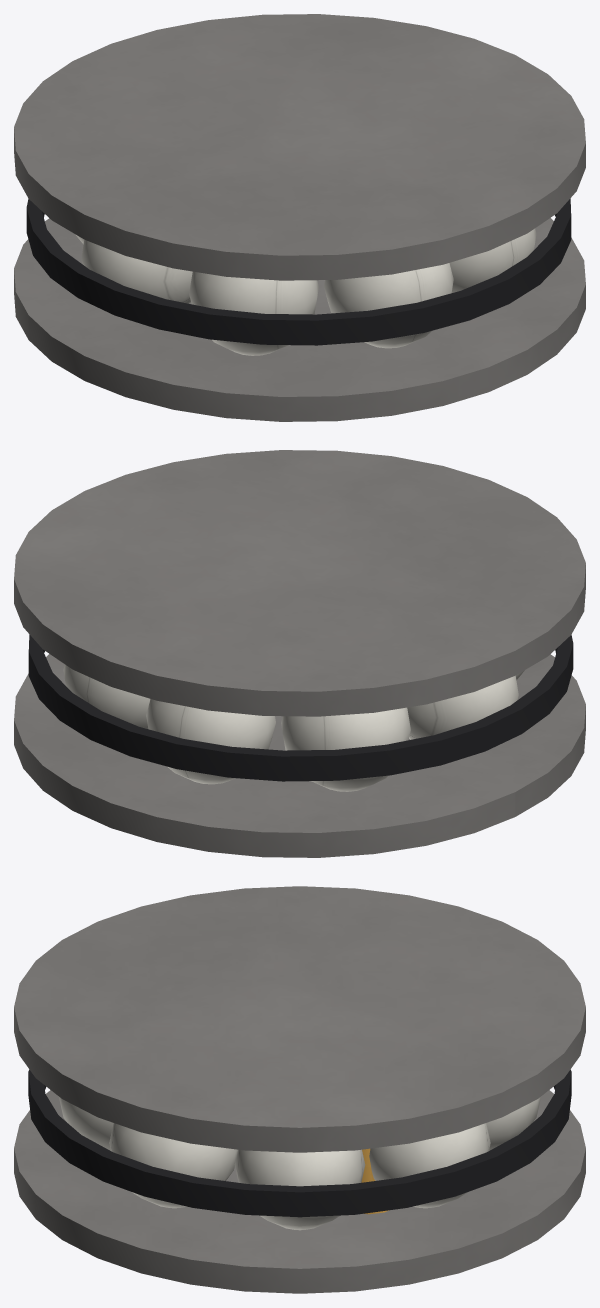
The model's file is stage15_landing_airbags_s.glb.
The picture shows the model from 3 angles, top to bottom: view 1: azimuth 30°, elevation 25°; view 2: azimuth 150°, elevation 25°; view 3: azimuth 270°, elevation 25°; orthographic projection.
Visible parts, largest first — view 1: top_plate, base_plate, restraint_straps, bag_stowed; view 2: top_plate, base_plate, restraint_straps, bag_stowed; view 3: top_plate, base_plate, restraint_straps, bag_stowed.
Boxes of the visible parts, x1,y1,x2,y2 form: top_plate: (14, 14, 585, 280); base_plate: (14, 218, 585, 421); restraint_straps: (26, 198, 571, 345); bag_stowed: (75, 228, 536, 355); top_plate: (14, 450, 585, 716); base_plate: (14, 654, 585, 857); restraint_straps: (28, 634, 573, 781); bag_stowed: (63, 664, 524, 791); top_plate: (14, 886, 585, 1152); base_plate: (14, 1090, 585, 1293); restraint_straps: (28, 1069, 571, 1217); bag_stowed: (59, 1097, 540, 1230).
Size of the model in its own units: 1.25 by 0.4 by 1.25.
4 materials, 3 textured.
